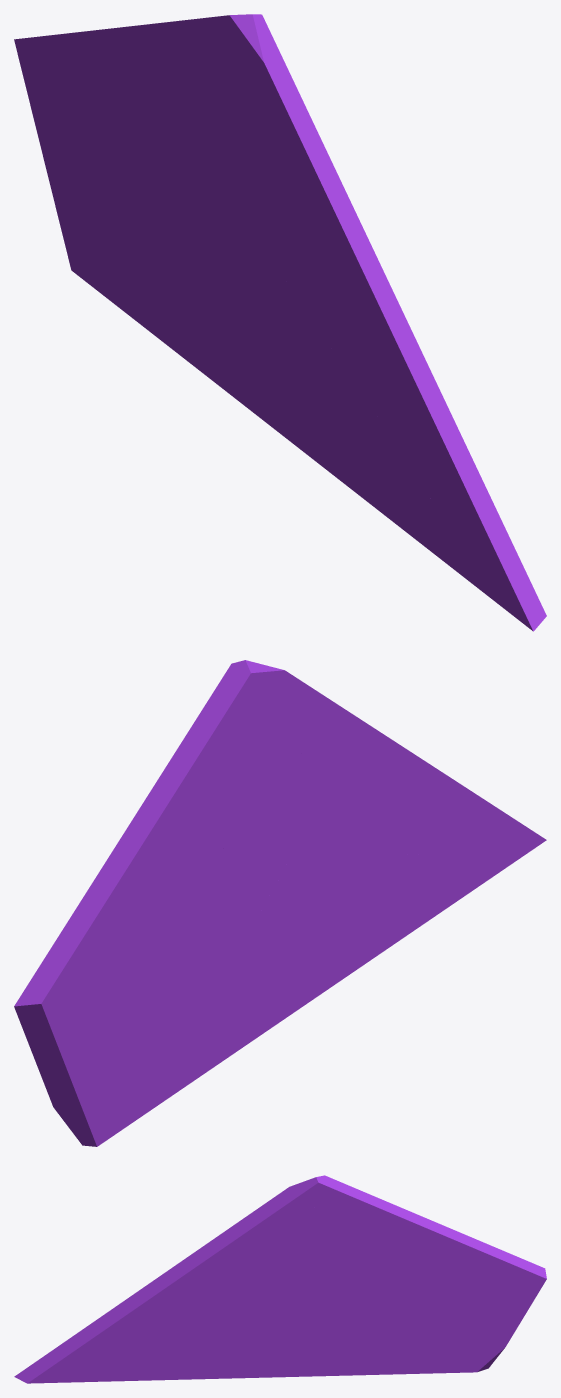
File: Window_46_10_chunks.fbx
3 views of the same model, one above another, from view 1: azimuth 30°, elevation 25°; view 2: azimuth 150°, elevation 25°; view 3: azimuth 270°, elevation 25° (orthographic). The views are drawn at different scales.
Parts seen in each view (by area): view 1: Window_46_10_5, Window_46_10_0, Window_46_10_4, Window_46_10_1, Window_46_10_6, Window_46_10_2, Window_46_10_3; view 2: Window_46_10_0, Window_46_10_4, Window_46_10_5, Window_46_10_1, Window_46_10_6, Window_46_10_2, Window_46_10_3; view 3: Window_46_10_5, Window_46_10_1, Window_46_10_4, Window_46_10_2, Window_46_10_0, Window_46_10_6.
Part boxes in pixels (<box>): Window_46_10_5: <box>278,92,546,631</box>; Window_46_10_0: <box>14,25,199,219</box>; Window_46_10_4: <box>218,262,491,598</box>; Window_46_10_1: <box>52,191,269,425</box>; Window_46_10_6: <box>195,25,299,282</box>; Window_46_10_2: <box>144,14,273,159</box>; Window_46_10_3: <box>274,231,416,475</box>; Window_46_10_0: <box>14,805,221,1097</box>; Window_46_10_4: <box>240,850,506,1014</box>; Window_46_10_5: <box>298,679,546,867</box>; Window_46_10_1: <box>43,920,289,1146</box>; Window_46_10_6: <box>218,662,302,948</box>; Window_46_10_2: <box>98,660,258,873</box>; Window_46_10_3: <box>294,807,432,854</box>; Window_46_10_5: <box>14,1197,279,1383</box>; Window_46_10_1: <box>277,1295,516,1377</box>; Window_46_10_4: <box>59,1285,333,1382</box>; Window_46_10_2: <box>306,1175,459,1296</box>; Window_46_10_0: <box>395,1213,546,1328</box>; Window_46_10_6: <box>274,1179,356,1317</box>.
Bounding box in the file's own units: 27.2 × 392 × 930.
